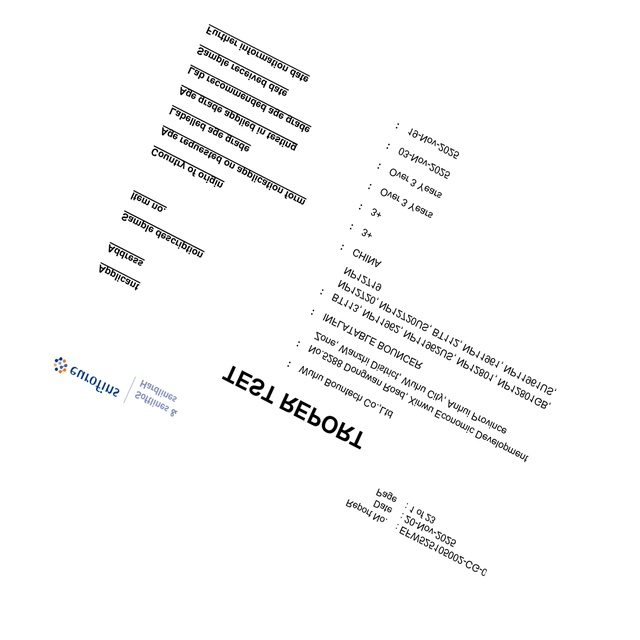eurofins: (52, 352, 126, 403)
